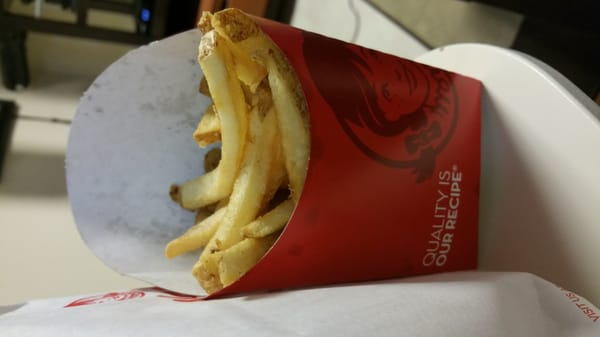burger: (166, 7, 313, 292)
